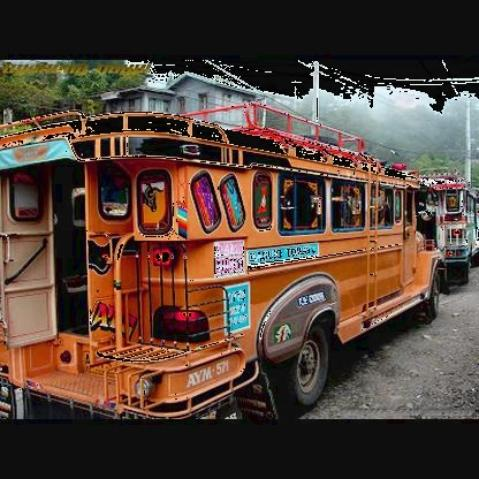jeepney: (0, 95, 443, 413)
